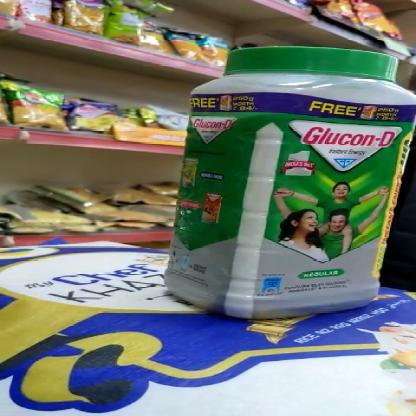Glucon D Regular 2-KG: (159, 50, 415, 314)
